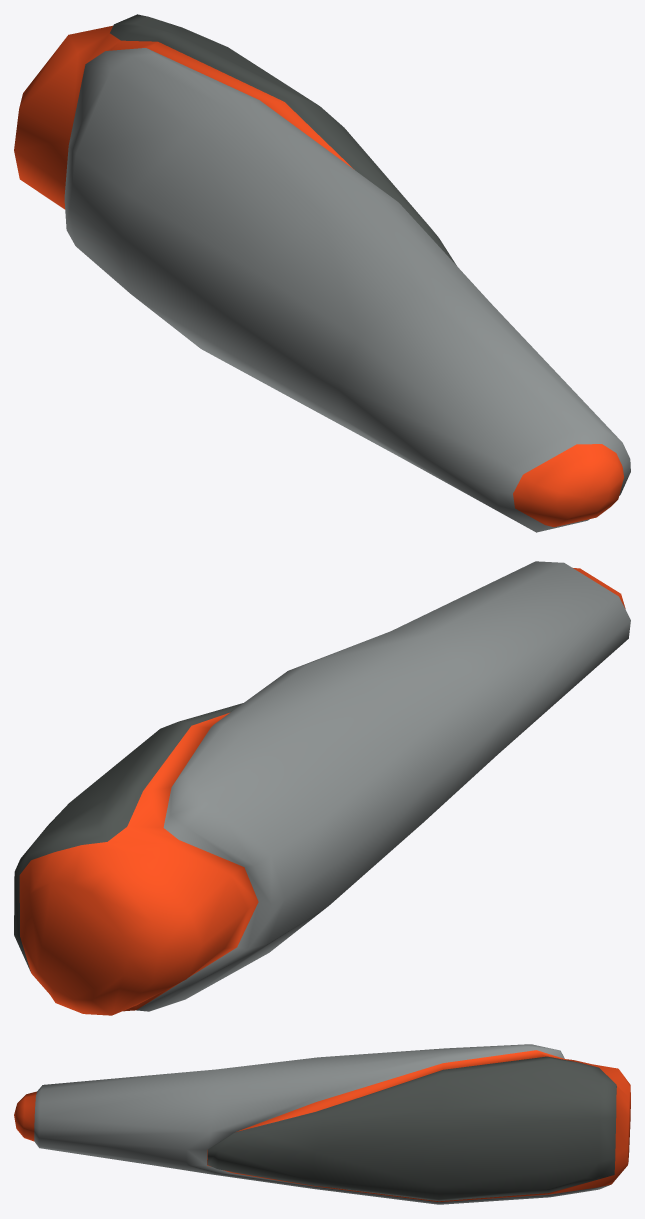
The model's file is xsens_RightForeArm.dae.
3 renders of one model, top to bottom at view 1: azimuth 30°, elevation 25°; view 2: azimuth 150°, elevation 25°; view 3: azimuth 270°, elevation 25°, orthographic. The views are drawn at different scales.
Parts seen in each view (by area): view 1: RightForeArm; view 2: RightForeArm; view 3: RightForeArm.
Part boxes in pixels (x1,y1,x2,y2): RightForeArm: [14, 14, 630, 532]; RightForeArm: [14, 561, 630, 1015]; RightForeArm: [14, 1044, 630, 1204].
Size of the model in its own units: 0.0668 by 0.2555 by 0.0636.
